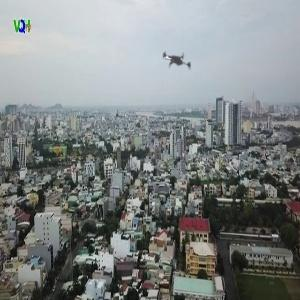drone: (147, 28, 209, 90)
